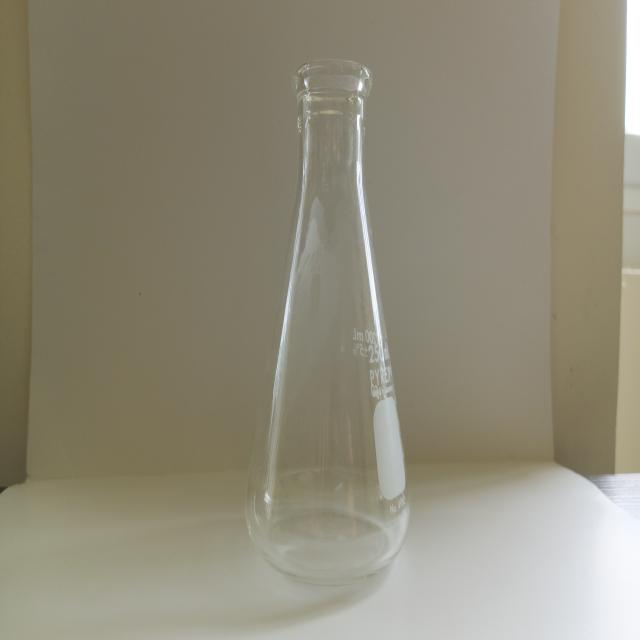erlenmeyer_flask: (238, 46, 416, 595)
